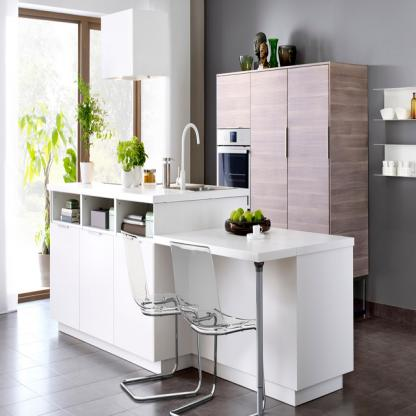Chair: (166, 238, 266, 416)
